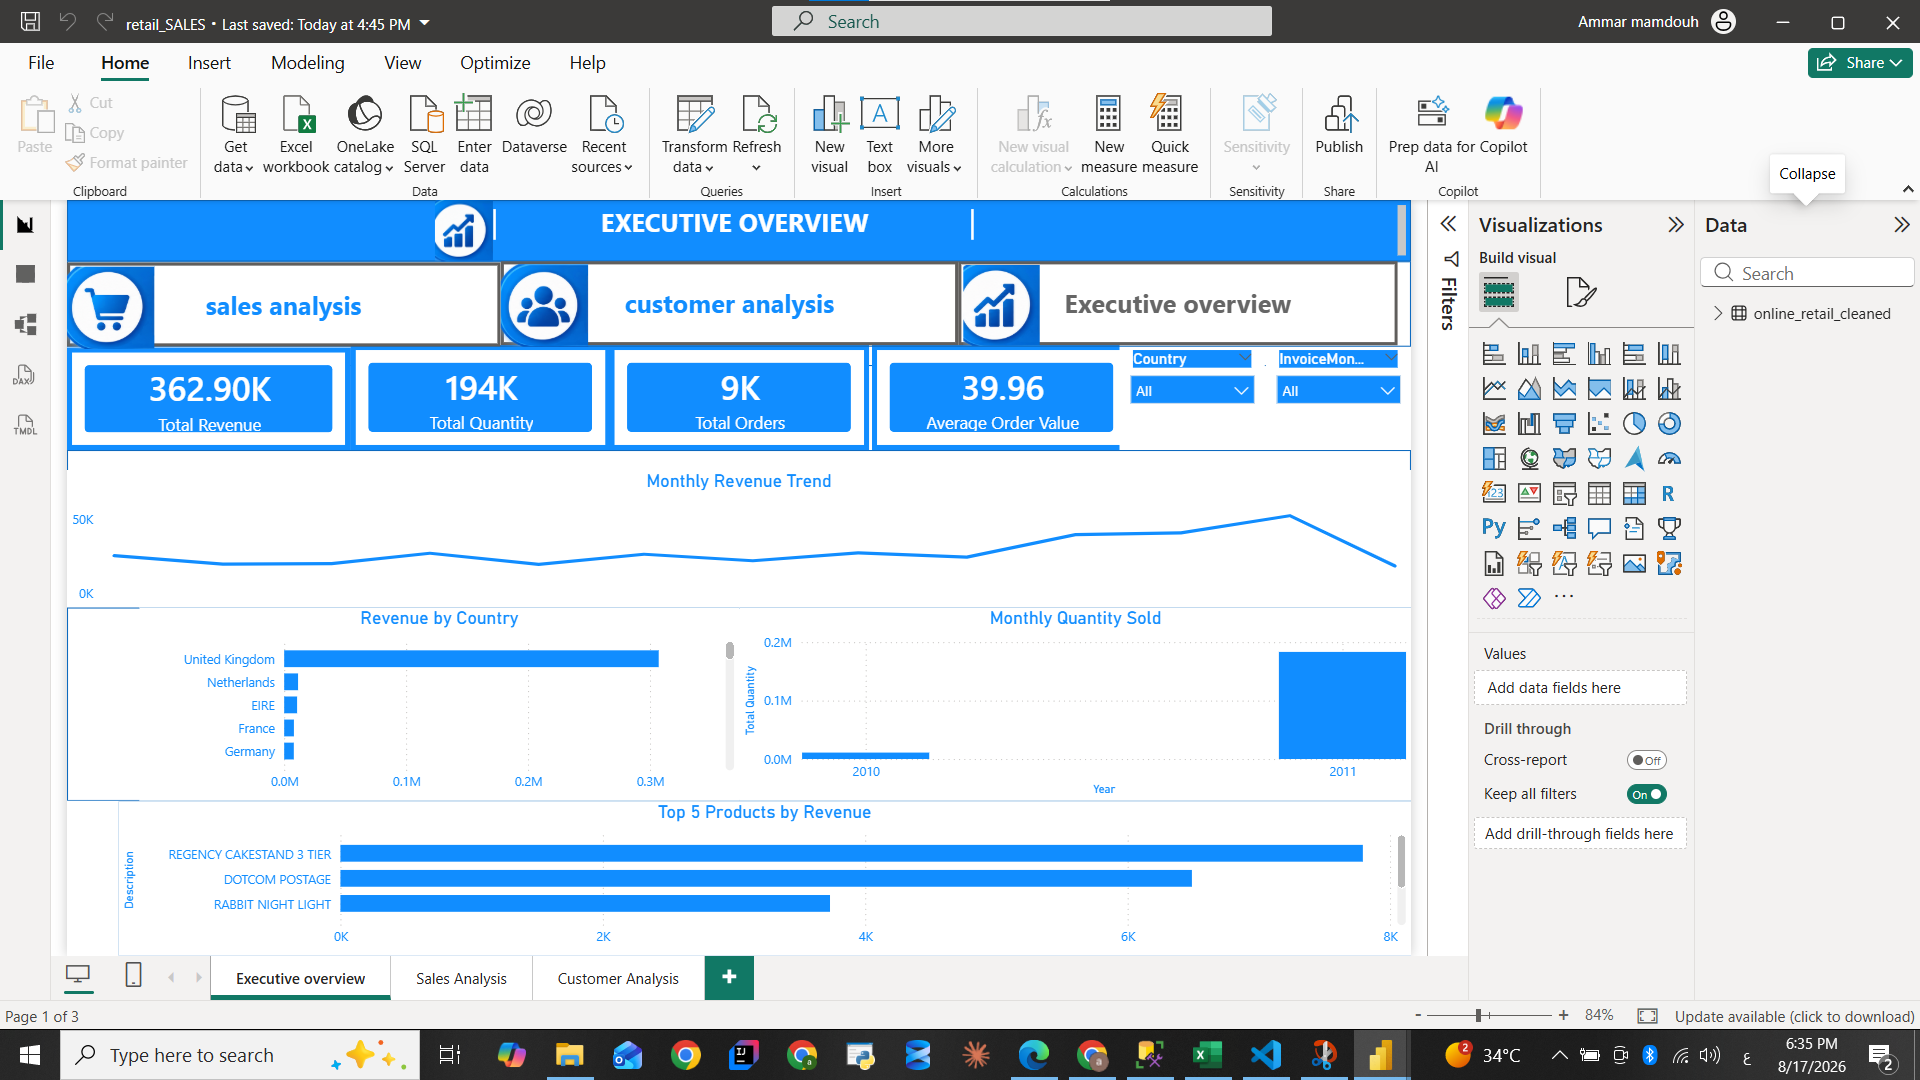

Layout of this report page (visuals, bound fields, positions):
{"tool":"powerbi","page":{"name":"Executive overview","canvas":[1280,720],"ordinal":0},"visuals":[{"type":"shape","box":[0,0,1280,58.6],"z":0},{"type":"textbox","box":[0,0,1280,58.6],"z":1000},{"type":"shape","box":[0,157.1,1280,100],"z":2000},{"type":"cardVisual","fields":{"Data":["online_retail_cleaned.Total Revenue"]},"box":[0,140,270,98.6],"z":3000},{"type":"cardVisual","fields":{"Data":["online_retail_cleaned.Total Quantity"]},"box":[270,138.6,247.1,100],"z":4000},{"type":"cardVisual","fields":{"Data":["online_retail_cleaned.Total Orders"]},"box":[517.1,138.6,247.1,100],"z":5000},{"type":"cardVisual","fields":{"Data":["online_retail_cleaned.Average Order Value"]},"box":[767.1,138.6,247.1,100],"z":6000},{"type":"shape","box":[0,238.6,1280,121.4],"z":7000},{"type":"lineChart","title":"Monthly Revenue Trend","fields":{"Y":["online_retail_cleaned.Total Revenue"],"Category":["online_retail_cleaned.InvoiceMonth.Variation.Date Hierarchy.Year","online_retail_cleaned.InvoiceMonth.Variation.Date Hierarchy.Quarter","online_retail_cleaned.InvoiceMonth.Variation.Date Hierarchy.Month","online_retail_cleaned.InvoiceMonth.Variation.Date Hierarchy.Day"]},"box":[0,257.1,1280,131.4],"z":8000},{"type":"shape","box":[0,388.6,1280,184.3],"z":9000},{"type":"clusteredBarChart","title":" Revenue by Country","fields":{"Category":["online_retail_cleaned.Country"],"Y":["online_retail_cleaned.Total Revenue"]},"box":[68.6,388.6,571.4,184.3],"z":10000},{"type":"shape","box":[48.6,572.9,1231.4,147.1],"z":11000},{"type":"clusteredBarChart","title":"Top 5 Products by Revenue","fields":{"Category":["online_retail_cleaned.Description"],"Y":["online_retail_cleaned.Total Revenue"]},"box":[48.6,572.9,1231.4,147.1],"z":12000},{"type":"clusteredColumnChart","title":"Monthly Quantity Sold","fields":{"Category":["online_retail_cleaned.InvoiceMonth.Variation.Date Hierarchy.Year","online_retail_cleaned.InvoiceMonth.Variation.Date Hierarchy.Quarter","online_retail_cleaned.InvoiceMonth.Variation.Date Hierarchy.Month","online_retail_cleaned.InvoiceMonth.Variation.Date Hierarchy.Day"],"Y":["online_retail_cleaned.Total Quantity"]},"box":[640,388.6,640,184.3],"z":13000},{"type":"slicer","fields":{"Values":["online_retail_cleaned.Country"]},"box":[1002.9,138.6,138.6,100],"z":14000},{"type":"slicer","fields":{"Values":["online_retail_cleaned.InvoiceMonth"]},"box":[1141.4,138.6,138.6,100],"z":15000},{"type":"shape","box":[0,58.6,1280,81.4],"z":16000},{"type":"actionButton","box":[0,60,412.9,80],"z":17000},{"type":"actionButton","box":[412.9,58.6,435.7,80],"z":18000},{"type":"actionButton","box":[848.6,58.6,418.6,80],"z":19000},{"type":"image","box":[848.6,61.4,82.9,77.1],"z":20000},{"type":"image","box":[412.9,60,82.9,81.4],"z":21000},{"type":"image","box":[0,61.4,82.9,81.4],"z":22000},{"type":"image","box":[344.3,0,68.6,58.6],"z":23000}]}

Visuals, with their boxes on the page's 1280x720 design canvas (x1, y1, x2, y2). These are canvas units, not pixel positions in the 1920x1080 screenshot, which may show the page scaled, cropped or inside an application window:
shape: 0,0,1280,59
textbox: 0,0,1280,59
shape: 0,157,1280,257
cardVisual - online_retail_cleaned.Total Revenue: 0,140,270,239
cardVisual - online_retail_cleaned.Total Quantity: 270,139,517,239
cardVisual - online_retail_cleaned.Total Orders: 517,139,764,239
cardVisual - online_retail_cleaned.Average Order Value: 767,139,1014,239
shape: 0,239,1280,360
"Monthly Revenue Trend" lineChart: 0,257,1280,388
shape: 0,389,1280,573
" Revenue by Country" clusteredBarChart: 69,389,640,573
shape: 49,573,1280,720
"Top 5 Products by Revenue" clusteredBarChart: 49,573,1280,720
"Monthly Quantity Sold" clusteredColumnChart: 640,389,1280,573
slicer - online_retail_cleaned.Country: 1003,139,1142,239
slicer - online_retail_cleaned.InvoiceMonth: 1141,139,1280,239
shape: 0,59,1280,140
actionButton: 0,60,413,140
actionButton: 413,59,849,139
actionButton: 849,59,1267,139
image: 849,61,932,138
image: 413,60,496,141
image: 0,61,83,143
image: 344,0,413,59
